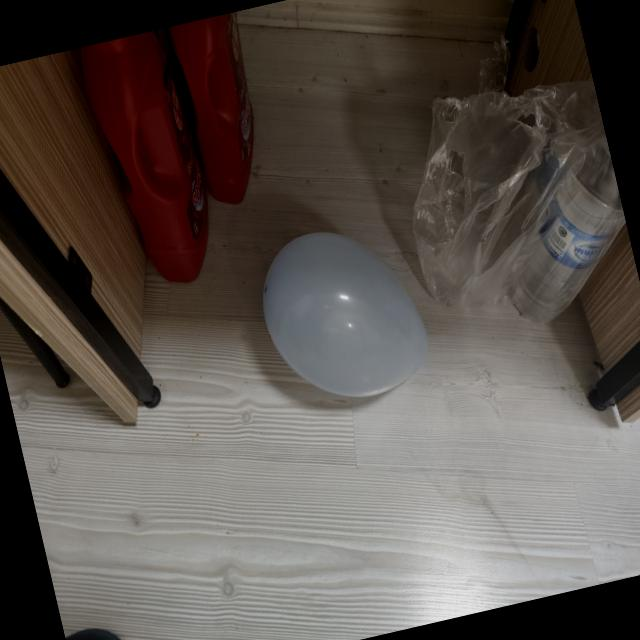balloon: (263, 232, 428, 396)
